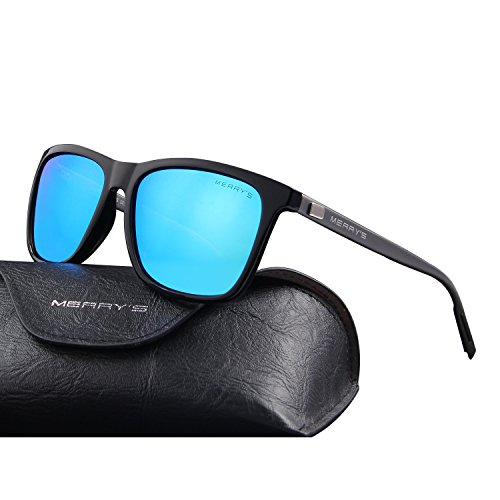sunglasses: (13, 138, 490, 362)
